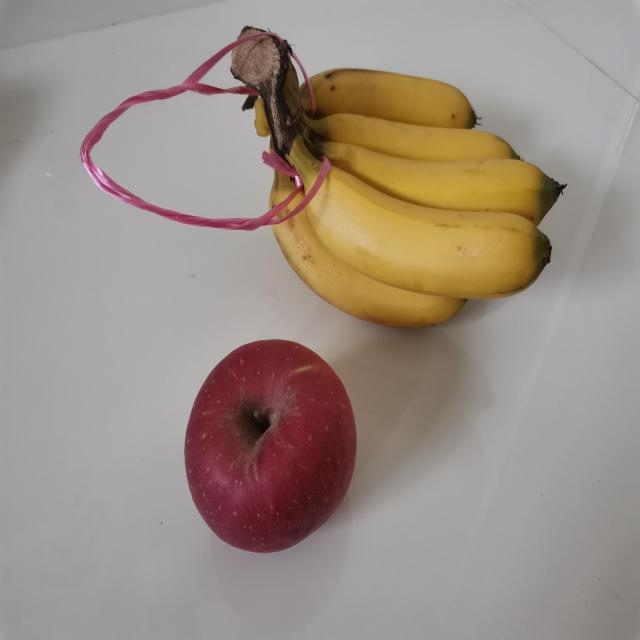Apple: (182, 336, 358, 554)
Banana: (229, 20, 568, 334)
